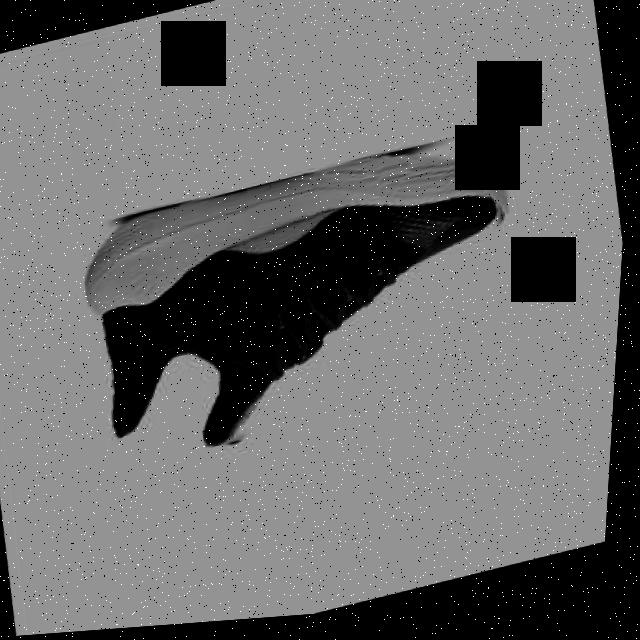shoe: (69, 131, 543, 479)
